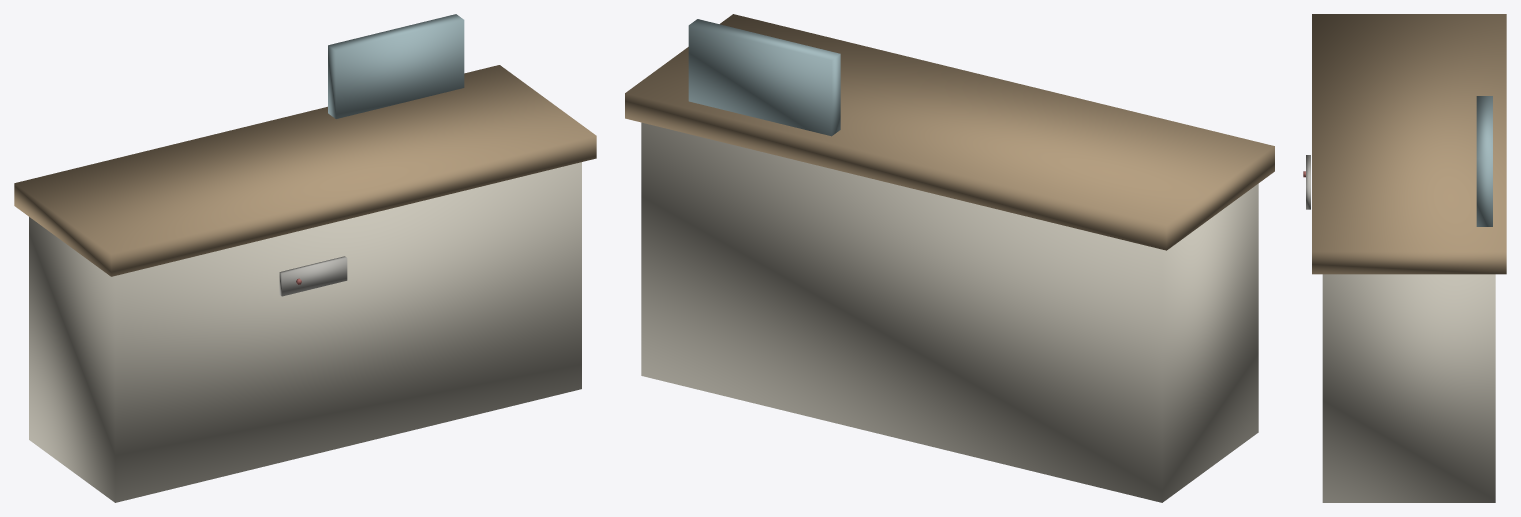
File: post_office_counter__tall.glb
The picture shows the model from 3 angles, left to right: view 1: azimuth 30°, elevation 25°; view 2: azimuth 150°, elevation 25°; view 3: azimuth 270°, elevation 25°; orthographic projection. The views are drawn at different scales.
Visible parts, largest first — view 1: world; view 2: world; view 3: world.
Boxes of the visible parts, <box> form: world: <box>14,14,596,502</box>; world: <box>625,14,1274,502</box>; world: <box>1303,14,1506,502</box>.
Size of the model in its own units: 2.08 by 1.32 by 0.751.
